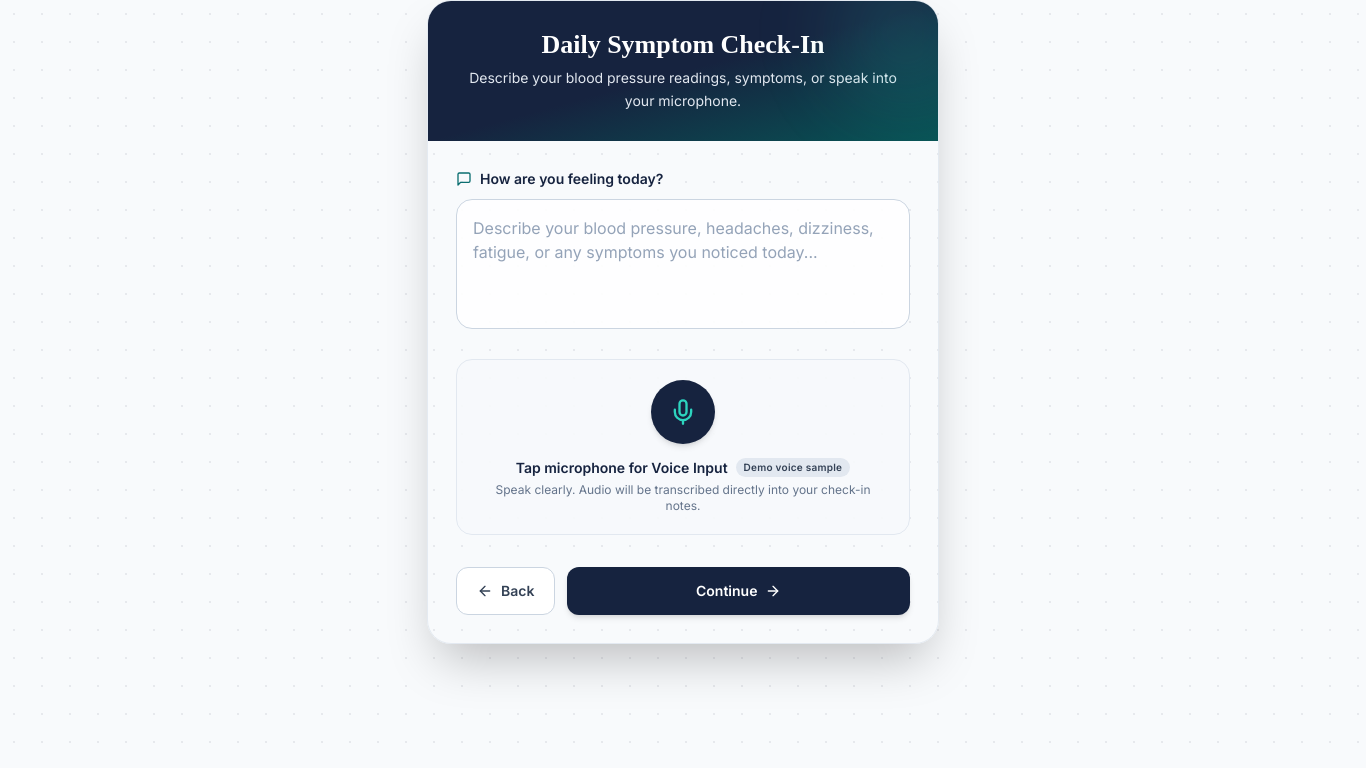
Test: STAGE 10C: Hypertension Parity & Condition Awareness › CheckInEntryScreen › autofills BP-oriented sample note on voice input for hypertension-only patient
The image size is (1366, 768).
Click the button titled "Tap microphone for Voice Input" at (683, 412), box left=651, top=380, right=715, bottom=444
Wait 2000 ms
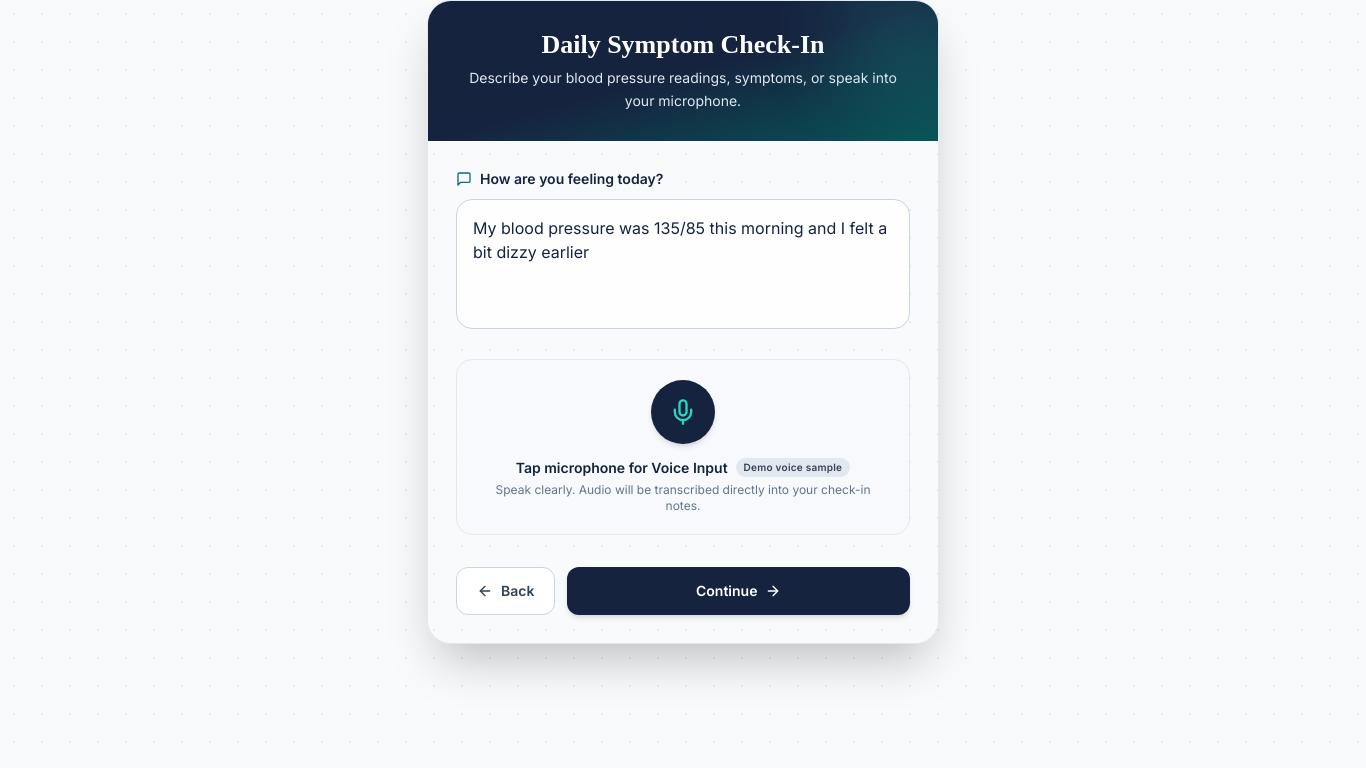
Expected: the text box with placeholder "Describe your blood pressure, headaches, dizziness, fatigue, or any symptoms you noticed today..." holds "My blood pressure was 135/85 this morning and I felt a bit dizzy earlier", left=456, top=198, right=910, bottom=328
